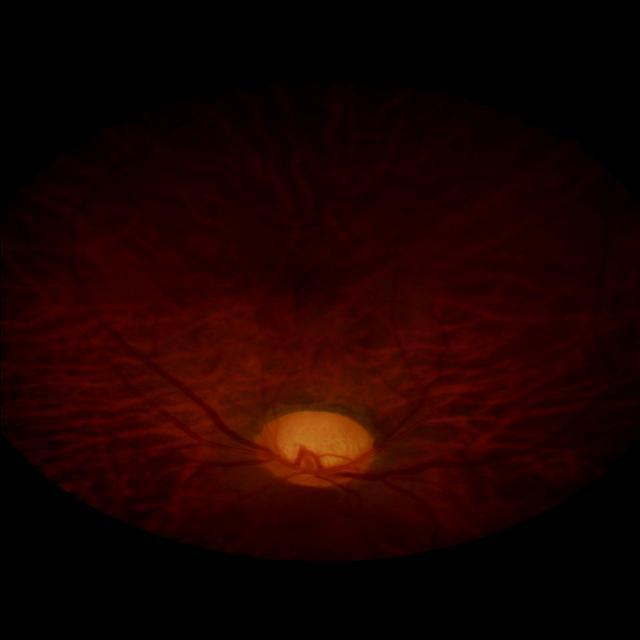cup: (274, 417, 360, 472)
disk: (254, 412, 374, 489)
